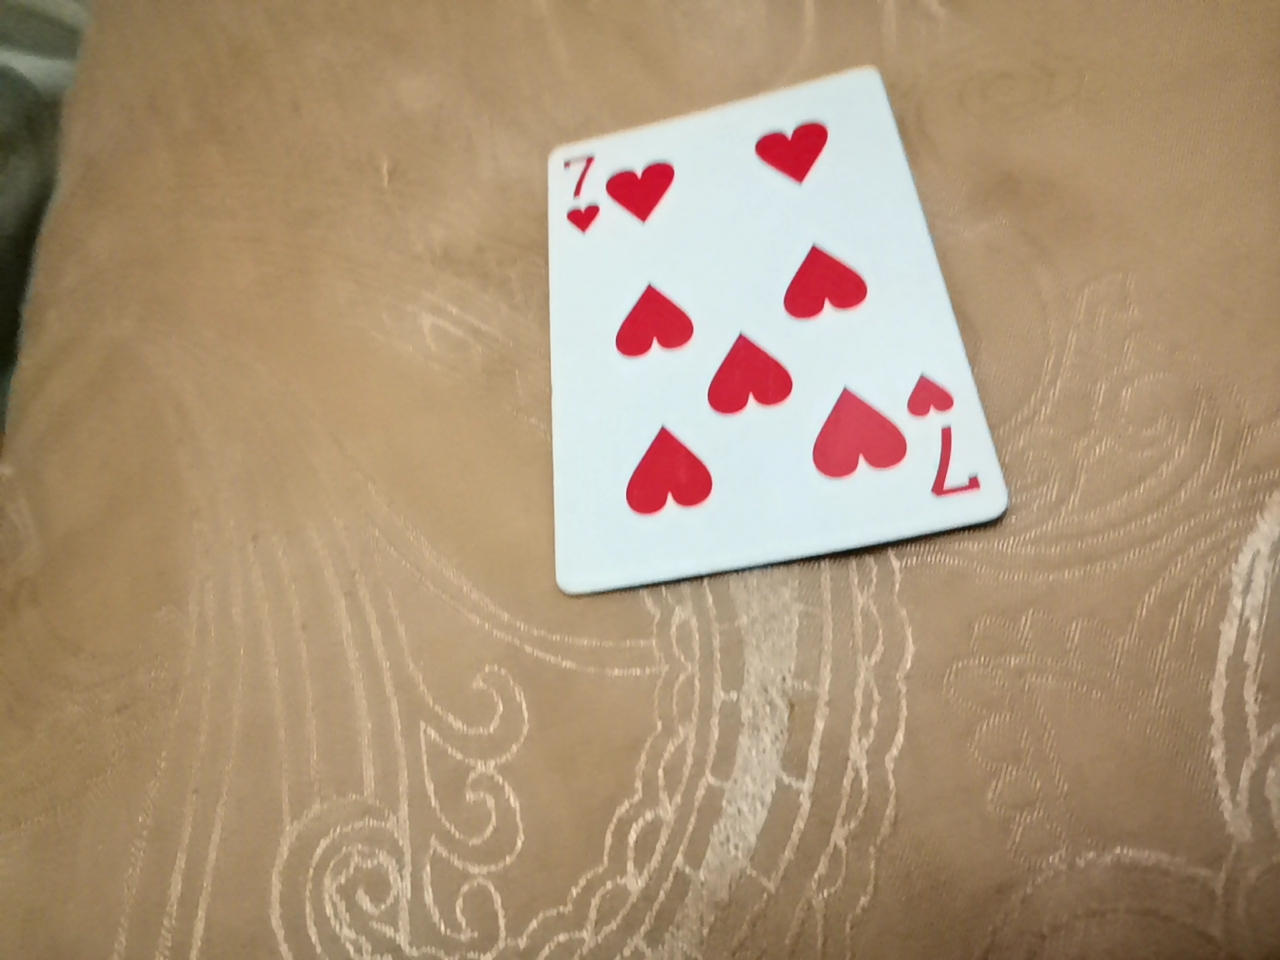hx 7: (528, 121, 974, 644)
